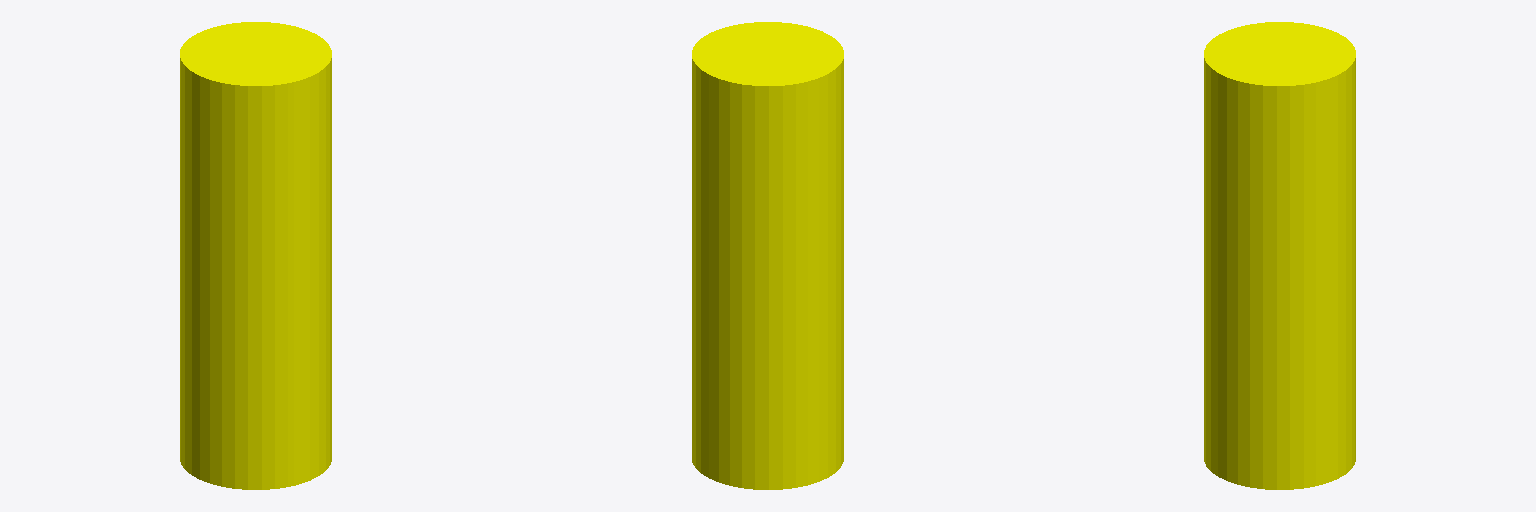
Rendered from Shaft.obj.
3 views of the same model, side by side, from view 1: azimuth 30°, elevation 25°; view 2: azimuth 150°, elevation 25°; view 3: azimuth 270°, elevation 25° (orthographic).
Parts seen in each view (by area): view 1: mesh 1 Shaft; view 2: mesh 1 Shaft; view 3: mesh 1 Shaft.
Boxes of the visible parts, x1=… form: mesh 1 Shaft: x1=180, y1=22, x2=331, y2=489; mesh 1 Shaft: x1=692, y1=22, x2=843, y2=489; mesh 1 Shaft: x1=1204, y1=22, x2=1355, y2=489.
Size of the model in its own units: 0.012 by 0.035 by 0.012.